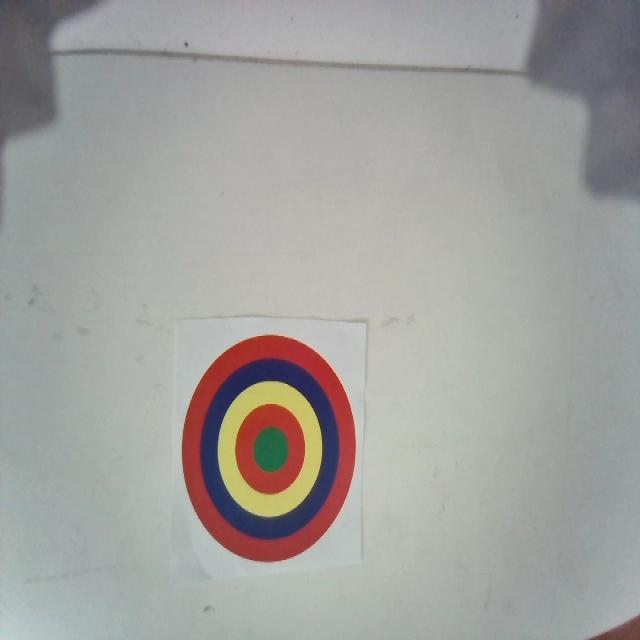cogn: (183, 332, 358, 564)
